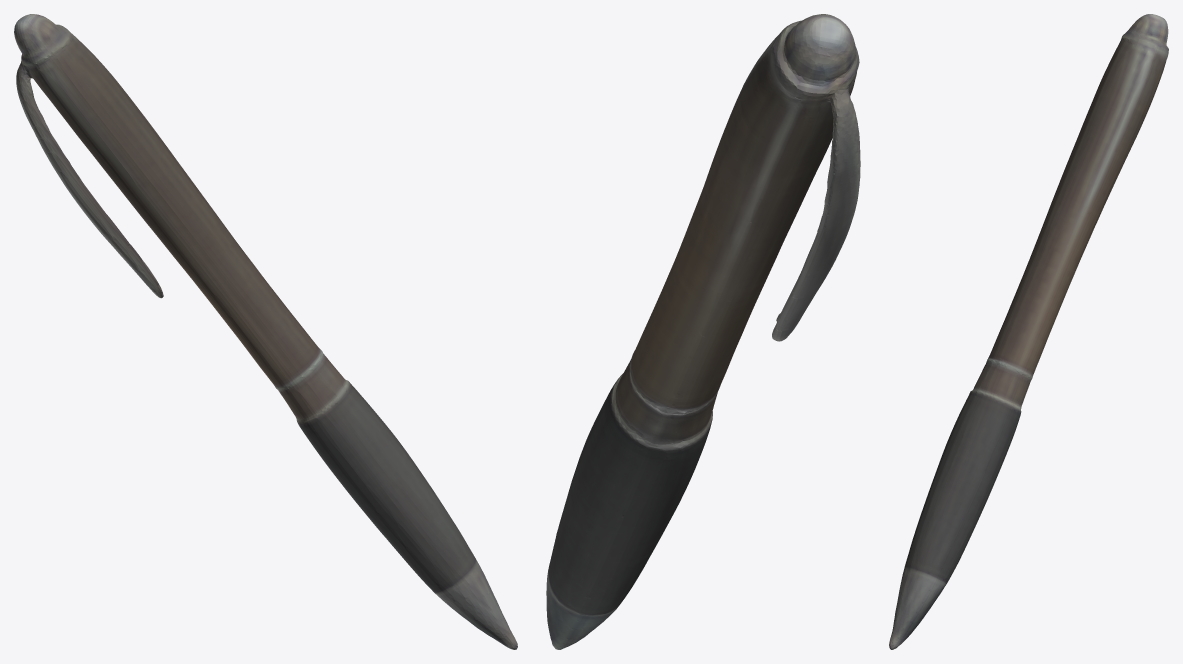
File: frame_0042_source_000042_object.glb
3 renders of one model, left to right at view 1: azimuth 30°, elevation 25°; view 2: azimuth 150°, elevation 25°; view 3: azimuth 270°, elevation 25°, orthographic. The views are drawn at different scales.
Parts seen in each view (by area): view 1: world; view 2: world; view 3: world.
Boxes of the visible parts, x1,y1,x2,y2 form: world: (14, 14, 517, 649); world: (546, 14, 860, 649); world: (889, 14, 1168, 649).
Size of the model in its own units: 0.0929 by 0.1539 by 0.0778.
